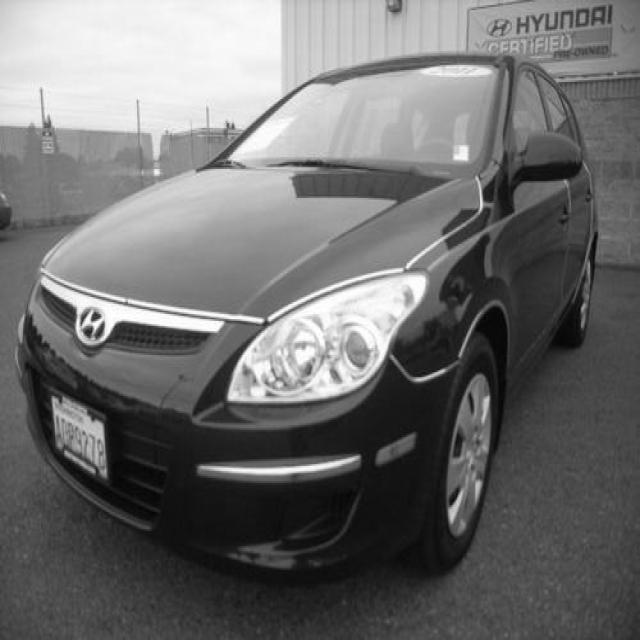car: (13, 49, 599, 580)
plat_license: (49, 393, 110, 481)
